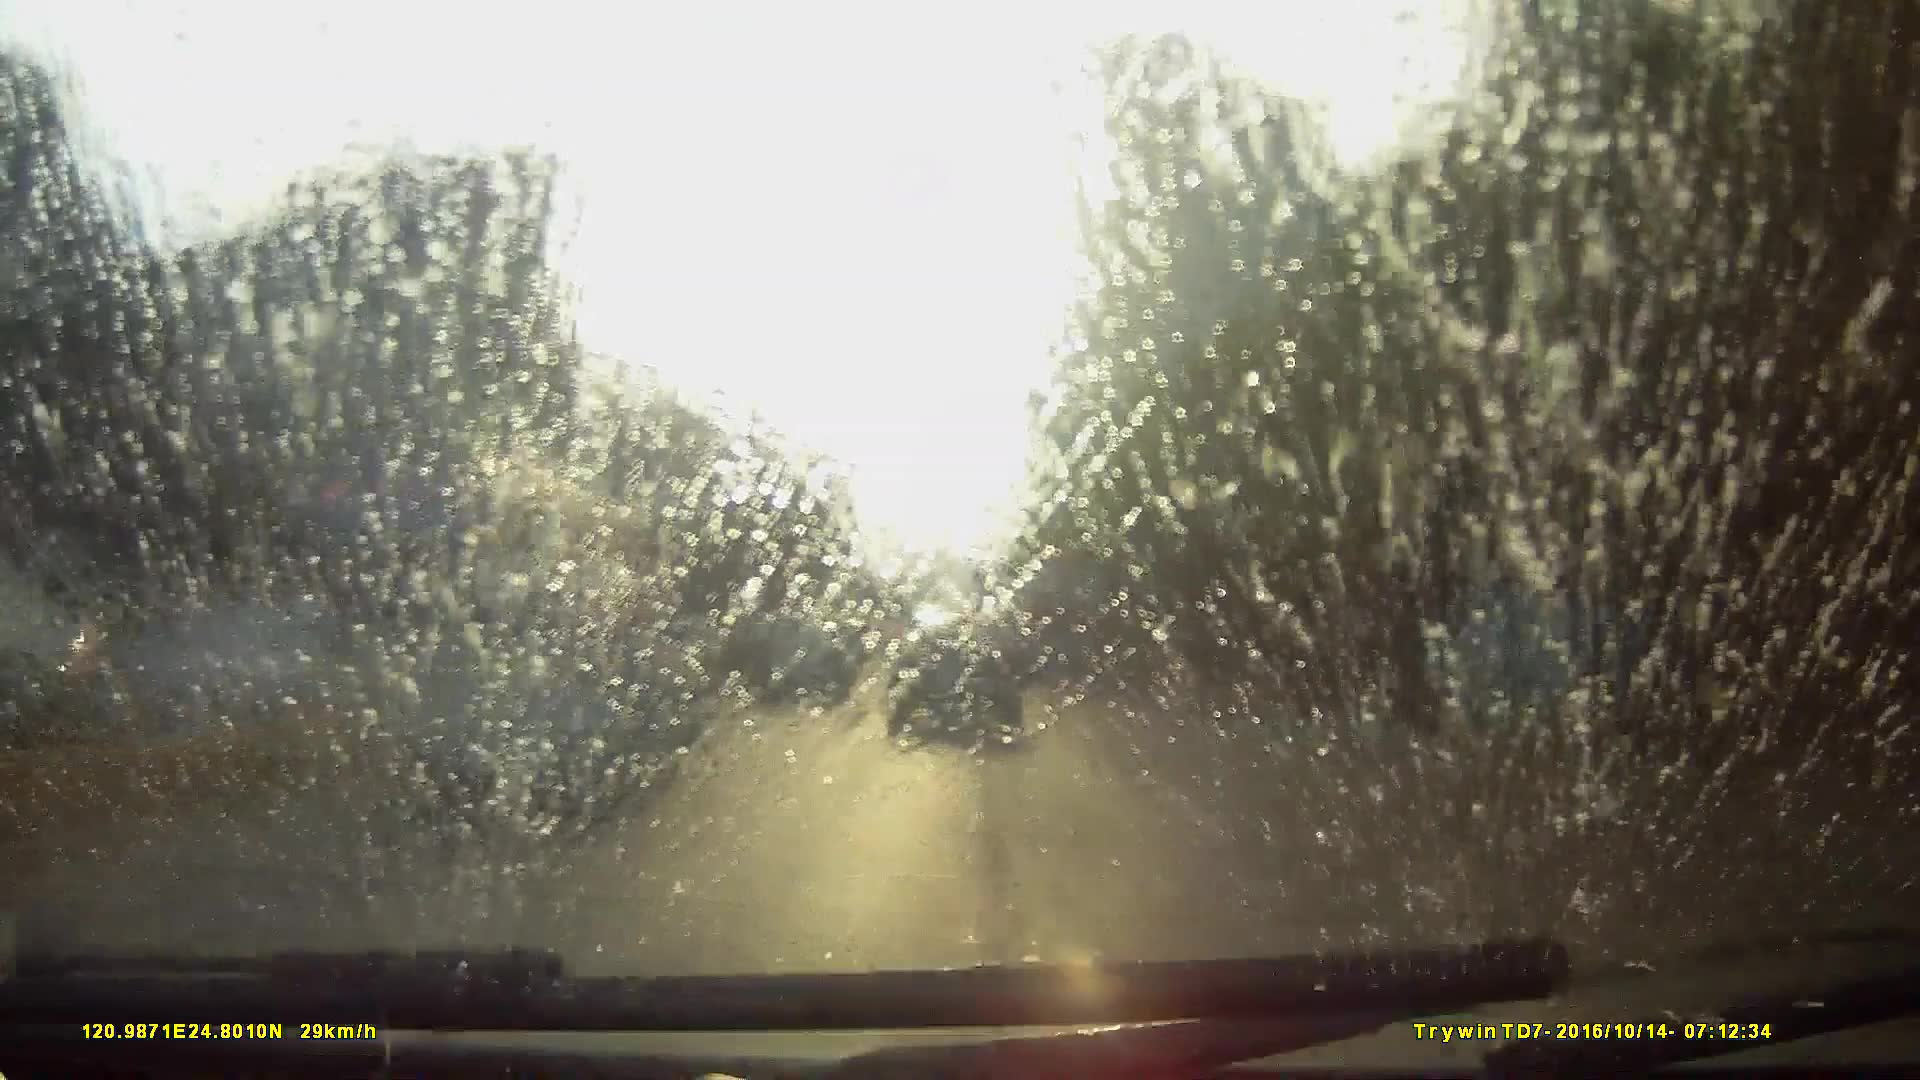vehicle: (251, 556, 684, 868), (233, 429, 657, 729), (400, 560, 707, 791), (887, 605, 1021, 740), (1004, 563, 1108, 688), (744, 622, 852, 709), (866, 638, 915, 687)
